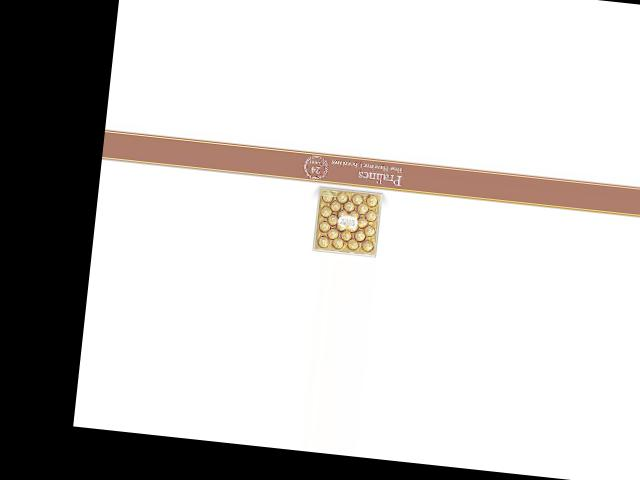chocolate: (307, 182, 385, 262)
